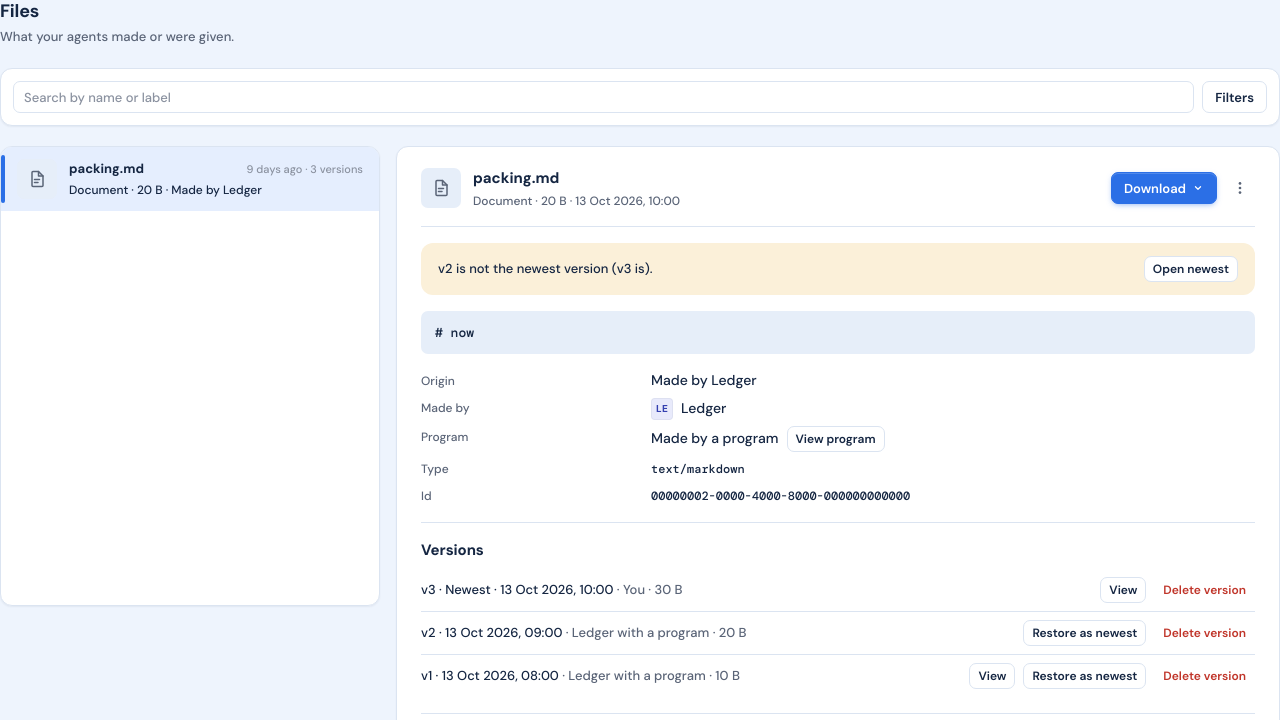
Scenario: a file with versions › says a version was made by a program, and shows that program read-only
The width and height of the screenshot is (1280, 720).
Check: the text "Made by a program" is shown, box [651,429,778,447]
Check: the element "Versions" shows "Ledger with a program", box [572,624,709,641]
Click the button "View program" at (836, 439), box [786,426,884,452]
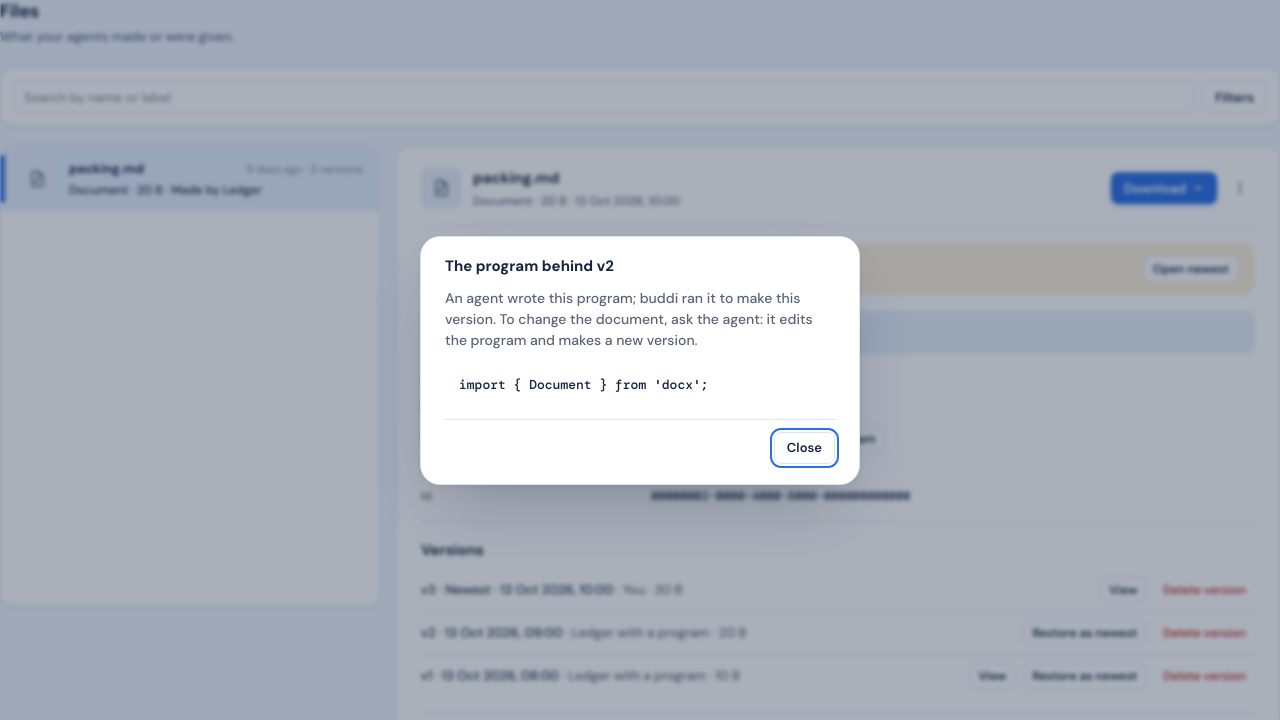
Check: the text named "Program" reads "import { Document } from 'docx';", box [459,376,709,393]
